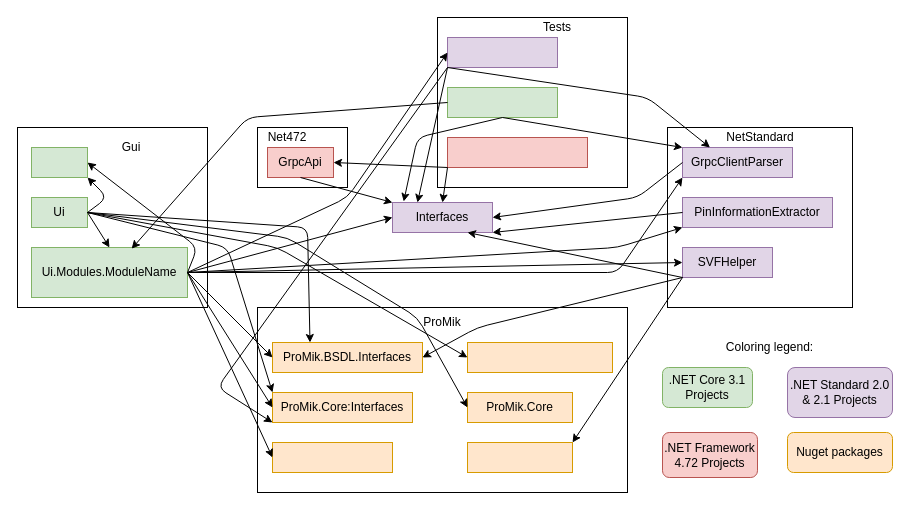
The diagram is 910 pixels wide and 510 high, and some of its shapes have lost their labels. The centre of each missing label's shape, as x and y in pixels:
ProMik.BSDL.Processor: the point at 539,357
ProMik.SvfPlayer: the point at 519,457
ProMik.UI.WPF: the point at 332,457
TestCoverage: the point at 502,52
TestDotNetCore: the point at 502,102
TestDotNetFramework: the point at 517,152
Ui.Core: the point at 59,162
